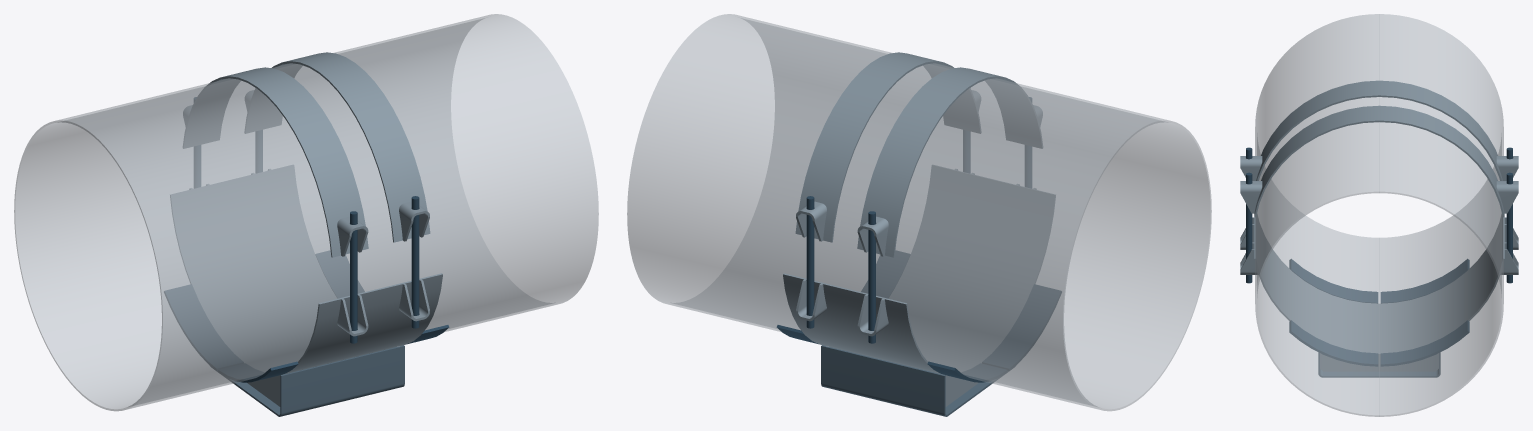
The model's file is TS-671.00.00-28-opora-dn1420-H150.glb.
3 renders of one model, left to right at view 1: azimuth 30°, elevation 25°; view 2: azimuth 150°, elevation 25°; view 3: azimuth 270°, elevation 25°, orthographic. The views are drawn at different scales.
Visible parts, largest first — view 1: truba, podushka_0, bugel_podushka_-1_0, bugel_podushka_1_0, skoba_1, upor_-1_1, upor_1_1, shpilka_1_-1, shpilka_-1_-1, upor_-1_-1, bugel_ushko_-1_2, bugel_ushko_1_2 (+3 smaller); view 2: truba, podushka_0, bugel_podushka_-1_0, bugel_podushka_1_0, skoba_1, upor_-1_-1, upor_1_-1, shpilka_1_1, shpilka_-1_1, upor_-1_1, bugel_ushko_-1_1, bugel_ushko_1_1 (+3 smaller); view 3: truba, podushka_0, bugel_podushka_1_0, bugel_podushka_-1_0, upor_1_1, upor_1_-1, rebro_6, upor_-1_1, upor_-1_-1, skoba_1, bugel_ushko_1_1, bugel_ushko_1_2 (+6 smaller).
Part boxes in pixels (bbox=[...]): truba: bbox=[14, 14, 598, 411]; podushka_0: bbox=[170, 165, 442, 374]; bugel_podushka_-1_0: bbox=[183, 67, 368, 257]; bugel_podushka_1_0: bbox=[244, 52, 430, 242]; skoba_1: bbox=[217, 345, 404, 416]; upor_-1_1: bbox=[164, 284, 243, 370]; upor_1_1: bbox=[315, 251, 364, 297]; shpilka_1_-1: bbox=[411, 196, 419, 328]; shpilka_-1_-1: bbox=[350, 211, 357, 343]; upor_-1_-1: bbox=[218, 361, 298, 382]; bugel_ushko_-1_2: bbox=[337, 216, 368, 256]; bugel_ushko_1_2: bbox=[399, 201, 429, 241]; truba: bbox=[627, 14, 1211, 411]; podushka_0: bbox=[783, 165, 1055, 374]; bugel_podushka_-1_0: bbox=[857, 67, 1042, 257]; bugel_podushka_1_0: bbox=[795, 52, 981, 242]; skoba_1: bbox=[821, 345, 1008, 416]; upor_-1_-1: bbox=[982, 284, 1061, 370]; upor_1_-1: bbox=[861, 251, 910, 297]; shpilka_1_1: bbox=[806, 196, 814, 328]; shpilka_-1_1: bbox=[868, 211, 875, 343]; upor_-1_1: bbox=[927, 361, 1007, 382]; bugel_ushko_-1_1: bbox=[857, 216, 888, 256]; bugel_ushko_1_1: bbox=[796, 201, 826, 241]; truba: bbox=[1255, 14, 1503, 416]; podushka_0: bbox=[1254, 214, 1504, 355]; bugel_podushka_1_0: bbox=[1254, 105, 1504, 217]; bugel_podushka_-1_0: bbox=[1256, 80, 1502, 180]; upor_1_1: bbox=[1380, 320, 1469, 366]; upor_1_-1: bbox=[1289, 320, 1378, 366]; rebro_6: bbox=[1320, 353, 1438, 371]; upor_-1_1: bbox=[1380, 259, 1469, 303]; upor_-1_-1: bbox=[1289, 259, 1378, 303]; skoba_1: bbox=[1318, 352, 1440, 377]; bugel_ushko_1_1: bbox=[1496, 181, 1518, 213]; bugel_ushko_1_2: bbox=[1240, 181, 1262, 213].
Size of the model in its own units: 2400 by 1588 by 1590.
